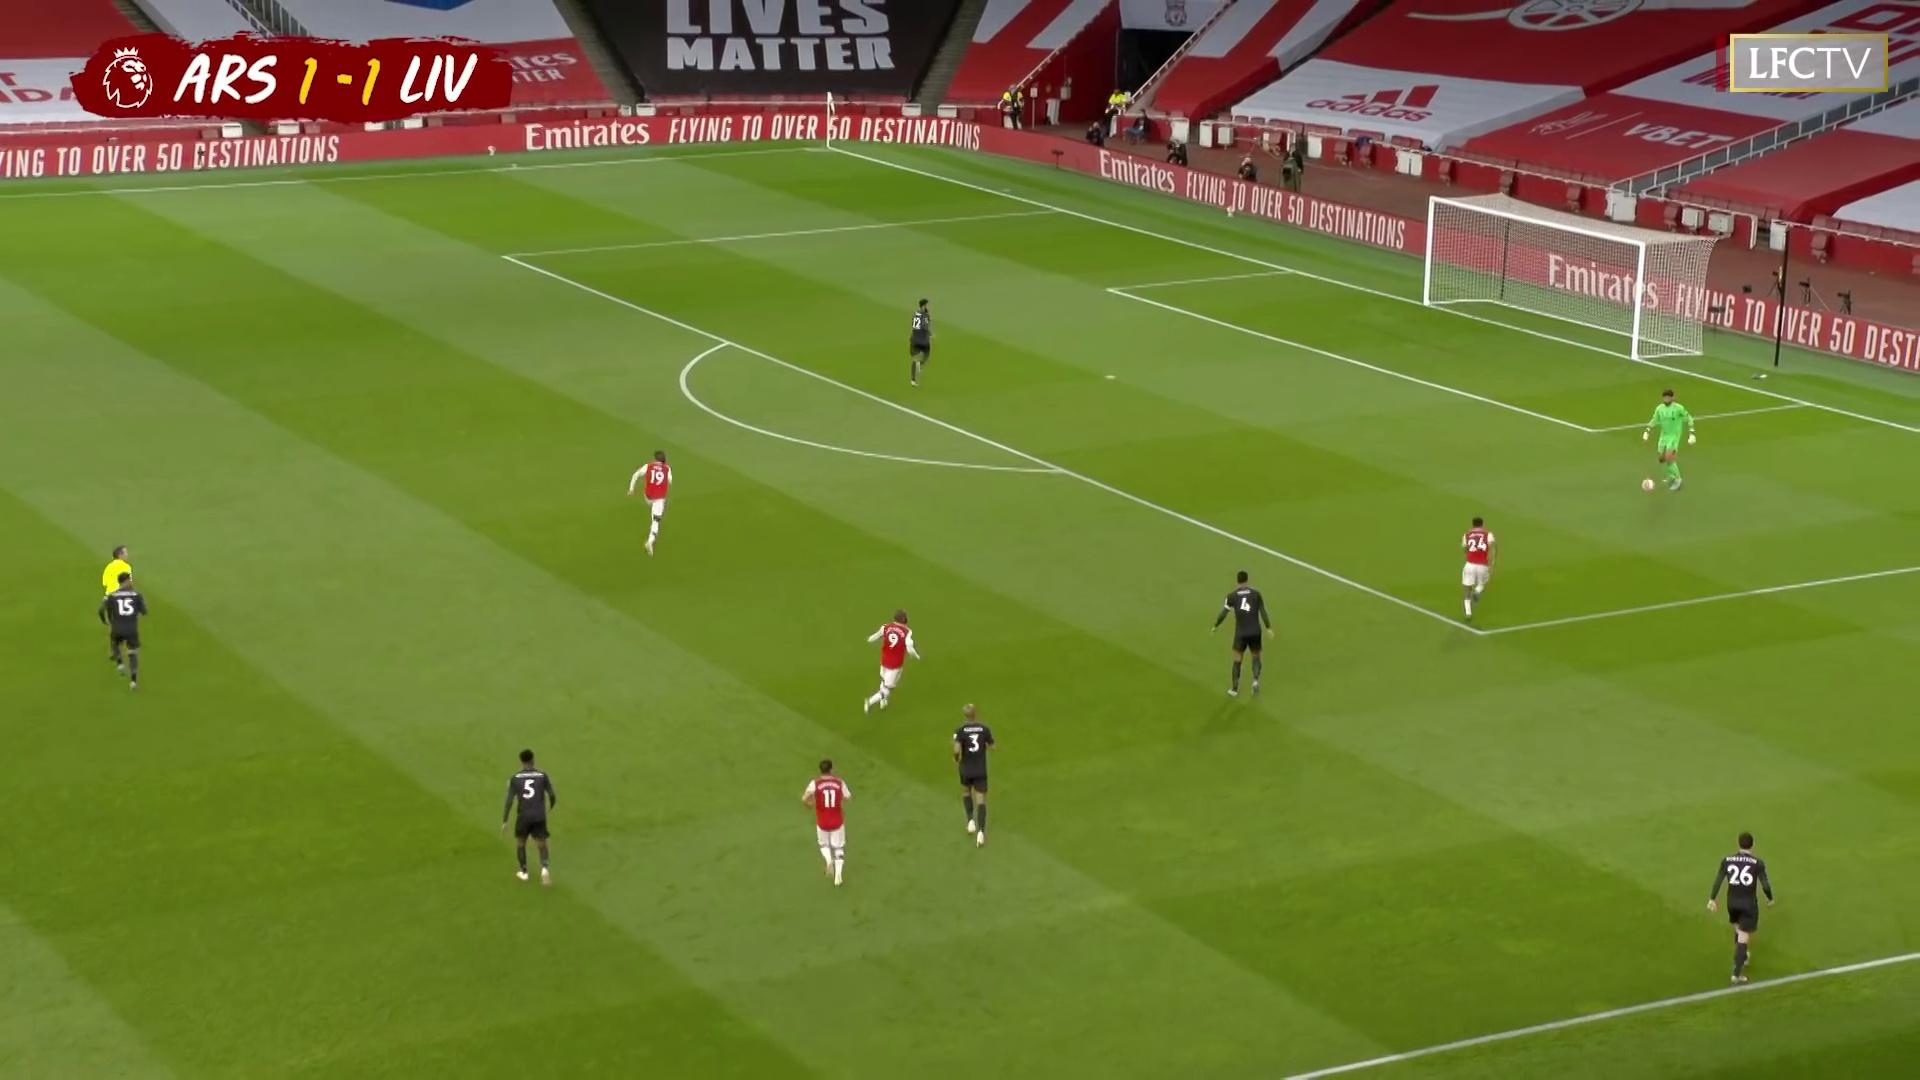ball: (1640, 477, 1657, 494)
